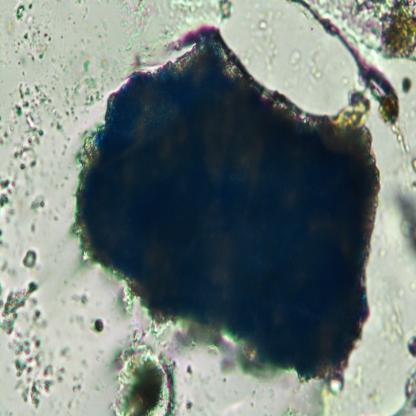Background material: (287, 0, 398, 133), (110, 330, 185, 416), (4, 338, 68, 411), (0, 274, 48, 338), (383, 174, 416, 264), (371, 0, 416, 62), (12, 82, 59, 141), (117, 0, 157, 55), (280, 379, 335, 416), (170, 0, 235, 29), (386, 362, 416, 416), (61, 76, 100, 116), (22, 31, 59, 65), (6, 137, 40, 173), (382, 296, 404, 346), (0, 174, 17, 222), (256, 42, 278, 74), (100, 54, 121, 85), (22, 247, 46, 271), (256, 11, 276, 38), (396, 121, 410, 156), (325, 374, 344, 396), (309, 58, 327, 80), (401, 72, 415, 96), (68, 316, 90, 329), (29, 194, 49, 208), (92, 318, 107, 336), (291, 55, 304, 75), (71, 289, 89, 303), (405, 334, 416, 355), (71, 374, 83, 392), (14, 3, 25, 20), (0, 228, 8, 251), (4, 16, 14, 34), (374, 388, 384, 406), (0, 260, 13, 273), (24, 16, 35, 30), (186, 397, 196, 412), (81, 59, 92, 71), (60, 344, 71, 355), (1, 134, 11, 146), (80, 6, 88, 20), (408, 277, 416, 290), (185, 361, 193, 373), (56, 122, 63, 133), (411, 160, 416, 174), (76, 0, 87, 6), (252, 388, 258, 398), (38, 52, 48, 58), (26, 3, 34, 10), (33, 224, 38, 234), (0, 116, 4, 128)
Fragment: (74, 31, 382, 388)
